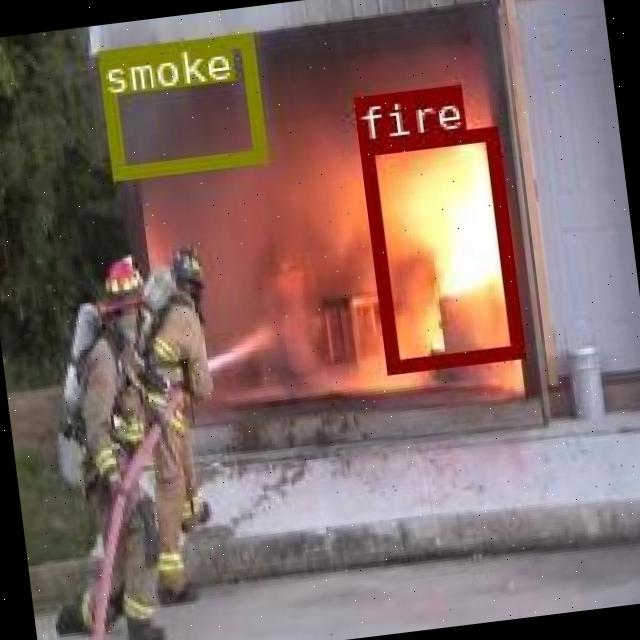fire: (356, 124, 520, 370)
smoke: (96, 32, 264, 178)
